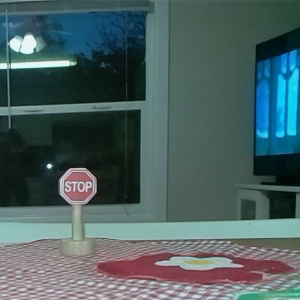stop sign: (56, 165, 99, 259)
